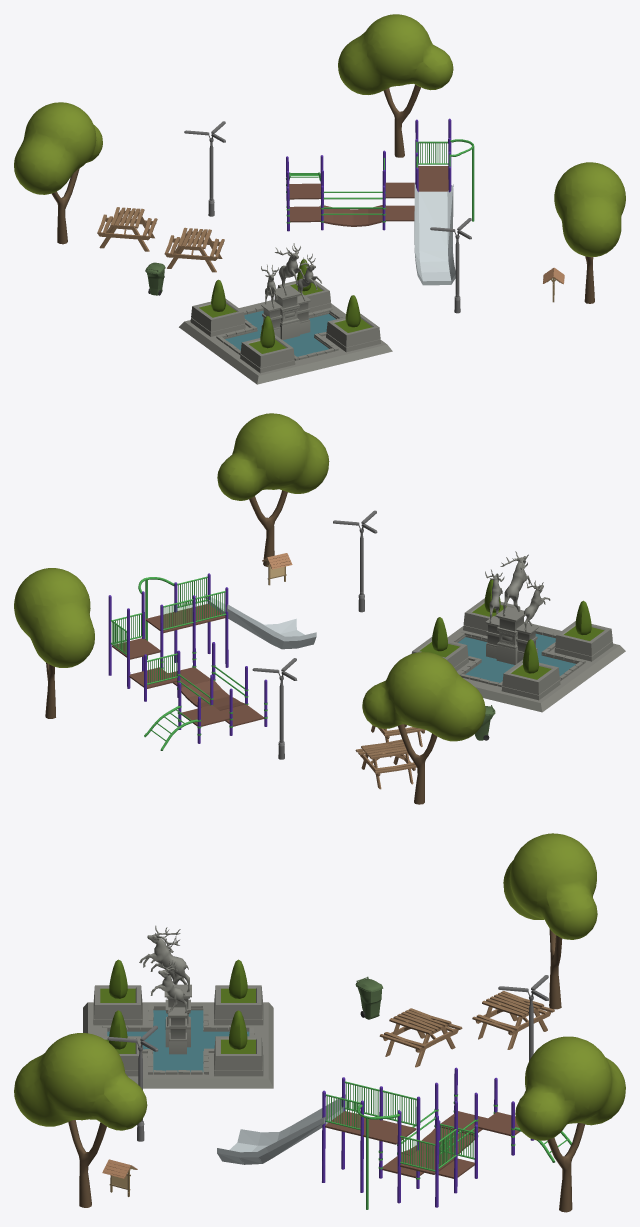
Rendered from Park1.fbx.
The picture shows the model from 3 angles, top to bottom: view 1: azimuth 30°, elevation 25°; view 2: azimuth 150°, elevation 25°; view 3: azimuth 270°, elevation 25°; orthographic projection. The views are drawn at different scales.
Parts seen in each view (by area): view 1: TownCenter_SecondAge_Level3, group62353271, Tree_3.001, Tree_3.002, Tree_3, Bench.001, Bench, Light_Street_2.001, Light_Street_2, Trashcan_Green; view 2: TownCenter_SecondAge_Level3, group62353271, Tree_3.002, Tree_3, Tree_3.001, Bench.001, Light_Street_2, Light_Street_2.001; view 3: TownCenter_SecondAge_Level3, group62353271, Tree_3, Tree_3.001, Tree_3.002, Bench, Bench.001, Trashcan_Green, Light_Street_2.001, ParkInfoBoard, Light_Street_2.
Part boxes in pixels (x1,y1,x2,y2): TownCenter_SecondAge_Level3: (179, 243, 392, 384); group62353271: (286, 118, 474, 285); Tree_3.001: (338, 14, 453, 157); Tree_3.002: (14, 102, 102, 244); Tree_3: (554, 162, 625, 303); Bench.001: (97, 207, 157, 251); Bench: (164, 227, 224, 272); Light_Street_2.001: (430, 218, 471, 313); Light_Street_2: (184, 121, 225, 216); Trashcan_Green: (145, 262, 165, 295); TownCenter_SecondAge_Level3: (411, 551, 625, 712); group62353271: (108, 573, 316, 750); Tree_3.002: (362, 652, 485, 804); Tree_3: (217, 413, 329, 566); Tree_3.001: (14, 568, 94, 718); Bench.001: (355, 739, 416, 789); Light_Street_2: (252, 658, 297, 759); Light_Street_2.001: (333, 510, 377, 612); TownCenter_SecondAge_Level3: (83, 925, 273, 1088); group62353271: (217, 1067, 571, 1209); Tree_3: (14, 1033, 147, 1207); Tree_3.001: (515, 1036, 625, 1212); Tree_3.002: (503, 833, 597, 1009); Bench: (379, 1008, 462, 1067); Bench.001: (472, 991, 554, 1049); Trashcan_Green: (355, 976, 383, 1019); Light_Street_2.001: (107, 1025, 158, 1141); ParkInfoBoard: (102, 1159, 137, 1196); Light_Street_2: (498, 975, 548, 1060).
Size of the model in its own units: 356 by 111 by 357.
